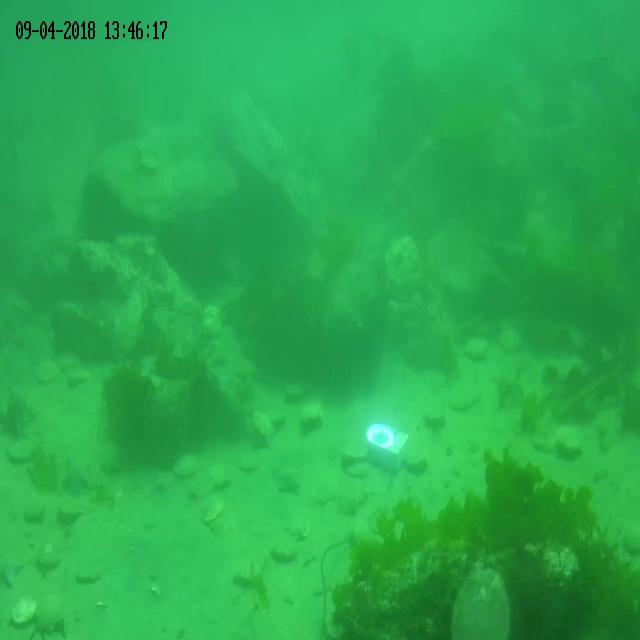scallop: (36, 595, 70, 637), (555, 422, 584, 460), (10, 596, 38, 630), (530, 424, 558, 458), (5, 434, 35, 464), (75, 558, 104, 587), (172, 452, 200, 482), (270, 533, 296, 565), (498, 324, 523, 356), (36, 540, 62, 570), (286, 511, 312, 541), (282, 377, 313, 402), (300, 398, 326, 427), (463, 333, 489, 362), (403, 446, 428, 476), (34, 356, 58, 387), (208, 460, 234, 488), (54, 350, 82, 373), (340, 442, 372, 462), (140, 151, 160, 178), (202, 502, 225, 524), (345, 459, 370, 479), (200, 316, 222, 338), (66, 364, 88, 384), (204, 304, 220, 322)
starfish: (58, 452, 95, 498), (0, 546, 26, 590), (274, 458, 302, 498), (248, 422, 276, 455), (150, 467, 178, 500)
